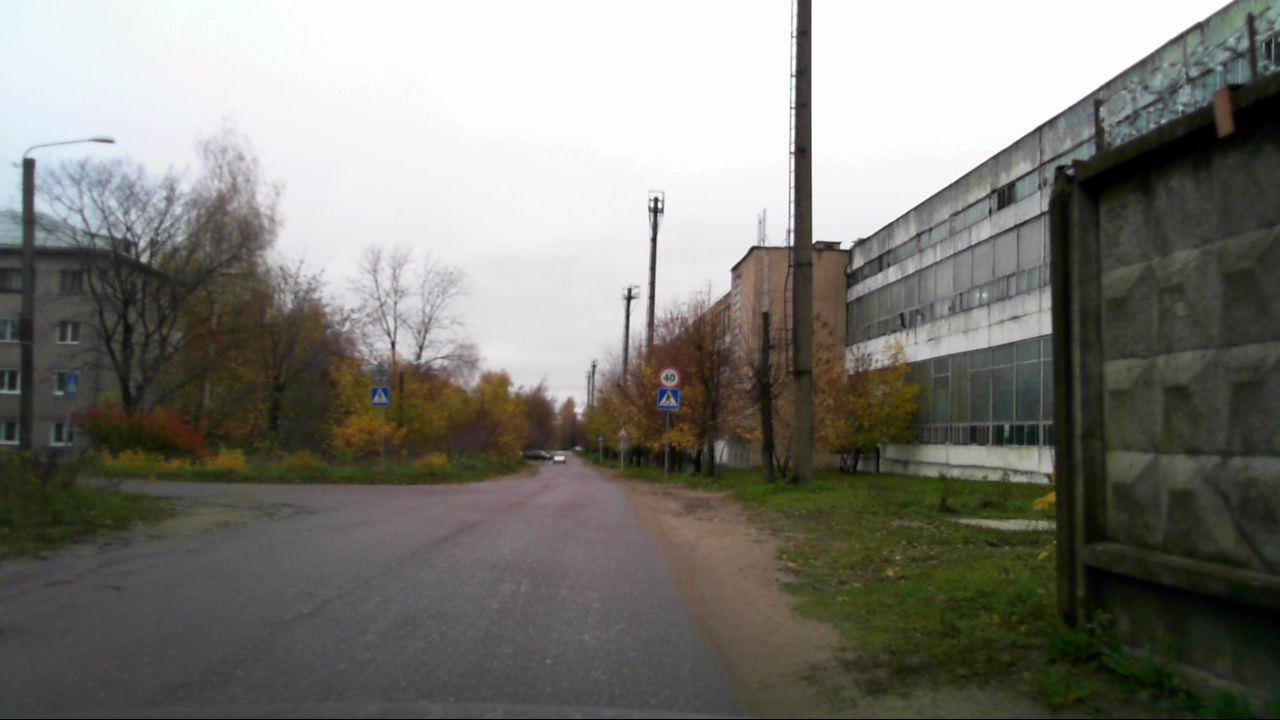speed_warning_40: (657, 365, 681, 390)
